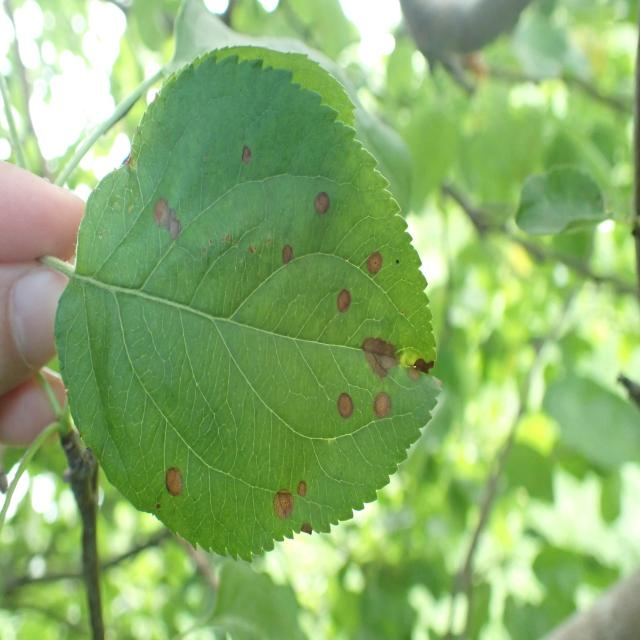Black Rot: (148, 421, 192, 506), (146, 170, 190, 254), (354, 328, 403, 385), (318, 364, 352, 438), (269, 218, 304, 286), (264, 470, 297, 530), (330, 262, 356, 335), (303, 180, 342, 228), (353, 388, 400, 418), (235, 124, 259, 180), (359, 241, 397, 276), (294, 468, 318, 509)
